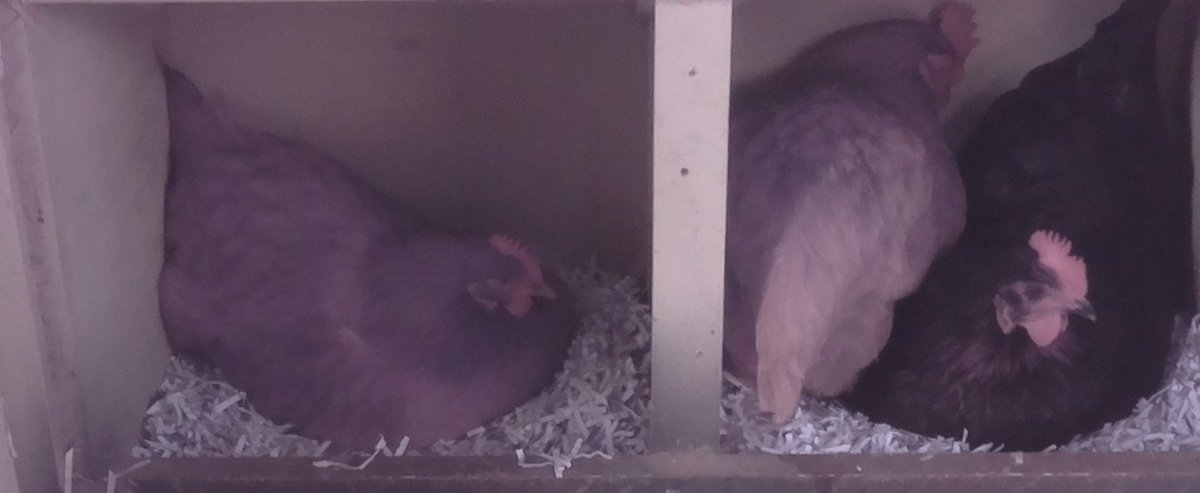hen: (149, 43, 577, 454), (887, 1, 1197, 449), (721, 3, 983, 398)
